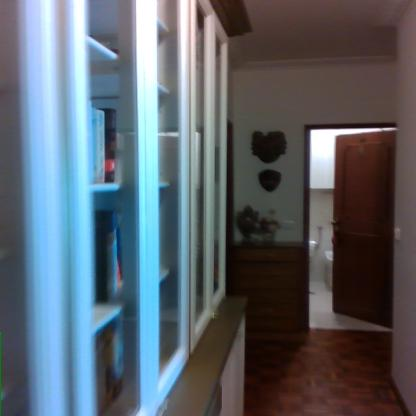semi: (289, 115, 411, 336)
